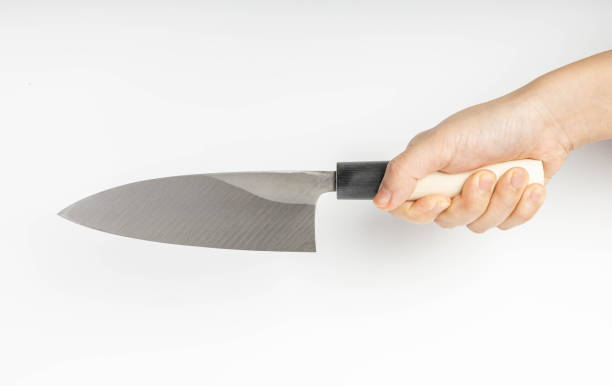knife: (57, 160, 545, 254)
